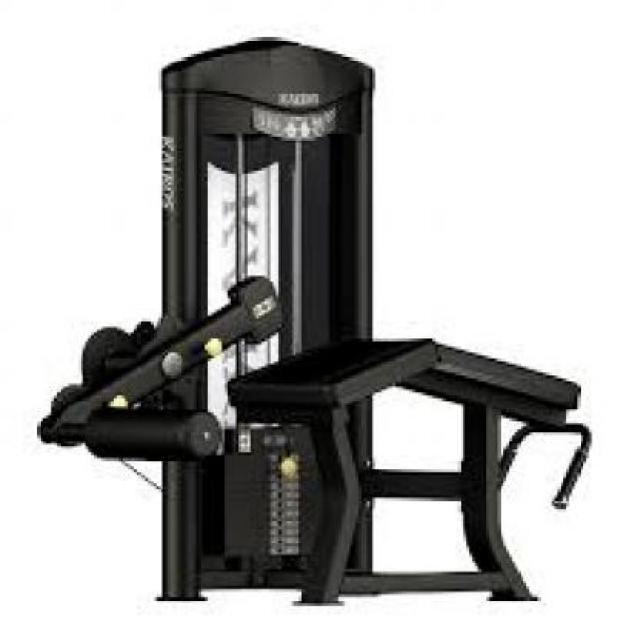reg curl machine: (37, 36, 595, 610)
